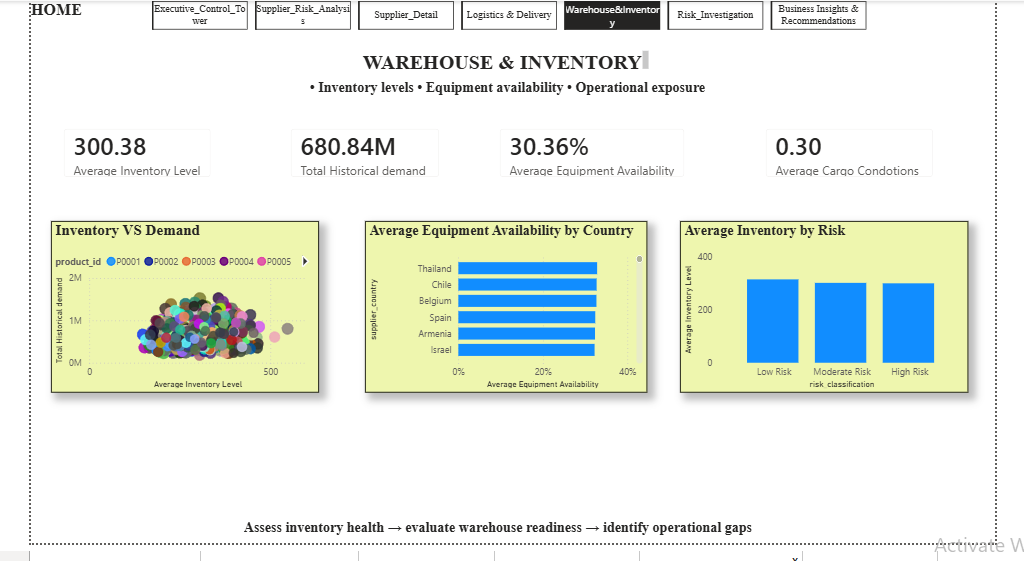

The page's visual inventory and layout, read from the dashboard file:
{"tool":"powerbi","page":{"name":"Warehouse&Inventory","canvas":[1280,720],"ordinal":4},"visuals":[{"type":"textbox","box":[434.6,61.5,390.7,36.6],"z":0},{"type":"textbox","box":[365.9,98,547.3,42.4],"z":1000},{"type":"cardVisual","fields":{"Data":["Dim_Country.Average Inventory Level"]},"box":[26.3,152.2,229.8,98],"z":2000},{"type":"cardVisual","fields":{"Data":["Dim_Country.Total Historical demand"]},"box":[327.8,152.2,231.2,98],"z":3000},{"type":"cardVisual","fields":{"Data":["Dim_Country.Average Equipment Availability"]},"box":[605.9,152.2,279.5,98],"z":4000},{"type":"cardVisual","fields":{"Data":["Dim_Country.Average Cargo Condotions"]},"box":[958.5,152.2,256.1,98],"z":5000},{"type":"scatterChart","title":"Inventory VS Demand","fields":{"X":["Dim_Country.Average Inventory Level"],"Y":["Dim_Country.Total Historical demand"],"Size":["Dim_Country.Average Shipping cost"],"Series":["Fact_SupplyChain.product_id"]},"box":[26.3,292.7,355.6,228.3],"z":6000},{"type":"clusteredBarChart","title":"Average Equipment Availability by Country","fields":{"Y":["Dim_Country.Average Equipment Availability"],"Category":["Dim_Country.supplier_country"]},"box":[443.4,292.7,374.6,228.3],"z":7000},{"type":"clusteredColumnChart","title":"Average Inventory by Risk","fields":{"Y":["Dim_Country.Average Inventory Level"],"Category":["Fact_SupplyChain.risk_classification"]},"box":[862,292.7,383.4,228.3],"z":8000},{"type":"pageNavigator","box":[161.3,0,950.4,38.9],"z":9000},{"type":"actionButton","title":"HOME","box":[0,0,100,40],"z":10000},{"type":"textbox","box":[278,683.4,703.9,36.6],"z":11000}]}

Visuals, with their boxes on the page's 1280x720 design canvas (x1, y1, x2, y2). These are canvas units, not pixel positions in the 1024x561 screenshot, which may show the page scaled, cropped or inside an application window:
textbox: region(435, 62, 825, 98)
textbox: region(366, 98, 913, 140)
cardVisual - Dim_Country.Average Inventory Level: region(26, 152, 256, 250)
cardVisual - Dim_Country.Total Historical demand: region(328, 152, 559, 250)
cardVisual - Dim_Country.Average Equipment Availability: region(606, 152, 885, 250)
cardVisual - Dim_Country.Average Cargo Condotions: region(958, 152, 1215, 250)
"Inventory VS Demand" scatterChart: region(26, 293, 382, 521)
"Average Equipment Availability by Country" clusteredBarChart: region(443, 293, 818, 521)
"Average Inventory by Risk" clusteredColumnChart: region(862, 293, 1245, 521)
pageNavigator: region(161, 0, 1112, 39)
"HOME" actionButton: region(0, 0, 100, 40)
textbox: region(278, 683, 982, 720)
